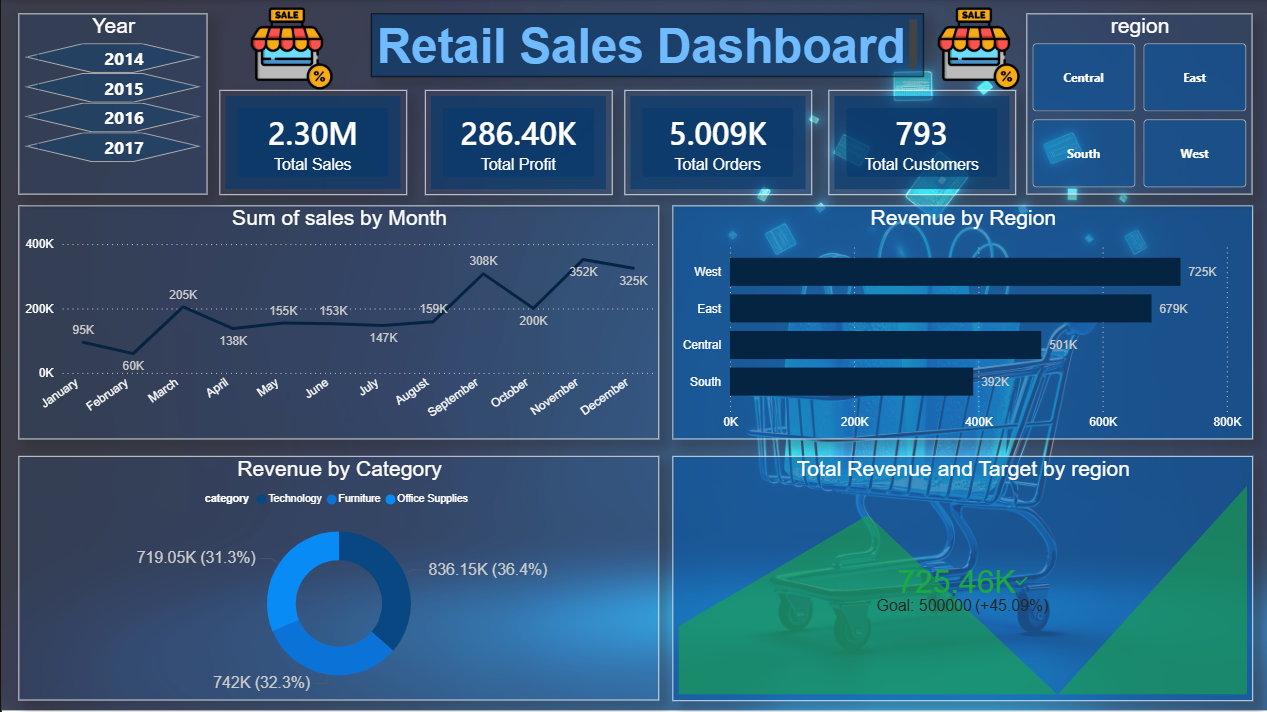

The dashboard page shown, as its layout file describes it:
{"tool":"powerbi","page":{"name":"Page 1","canvas":[1280,720],"ordinal":0},"visuals":[{"type":"textbox","box":[371.9,14.1,557.8,64.1],"z":0},{"type":"cardVisual","fields":{"Data":["Sum(retail_dw fact_sales.sales)"]},"box":[220.3,90.6,189.1,106.2],"z":1},{"type":"cardVisual","fields":{"Data":["Sum(retail_dw fact_sales.profit)"]},"box":[426.6,90.6,189.1,106.2],"z":2},{"type":"cardVisual","fields":{"Data":["Count(retail_dw fact_sales.order_id)"]},"box":[628.1,90.6,189.1,106.2],"z":3},{"type":"cardVisual","fields":{"Data":["Count(retail_dw dim_customer.customer_id)"]},"box":[834.4,90.6,189.1,106.2],"z":4},{"type":"barChart","title":"Revenue by Region","fields":{"Category":["retail_dw dim_region.region"],"Y":["Sum(retail_dw fact_sales.sales)"]},"box":[676.6,207.8,585.9,235.9],"z":5},{"type":"donutChart","title":"Revenue by Category","fields":{"Category":["retail_dw dim_product.category"],"Y":["Sum(retail_dw fact_sales.sales)"]},"box":[17.2,460.9,646.9,246.9],"z":6},{"type":"lineChart","fields":{"Category":["retail_dw dim_date.order_date.Variation.Date Hierarchy.Month"],"Y":["Sum(retail_dw fact_sales.sales)"]},"box":[17.2,207.8,646.9,235.9],"z":7},{"type":"kpi","fields":{"Indicator":["retail_dw dim_customer.Total Revenue"],"Goal":["retail_dw dim_customer.Target"],"TrendLine":["retail_dw fact_sales.region"]},"box":[677,461,586,247],"z":8},{"type":"listSlicer","fields":{"Values":["retail_dw dim_date.order_date.Variation.Date Hierarchy.Year"]},"box":[17.2,14.1,190.6,182.8],"z":9},{"type":"advancedSlicerVisual","fields":{"Values":["retail_dw dim_region.region"]},"box":[1034.4,14.1,228.1,182.8],"z":10},{"type":"image","box":[243.8,7.8,96.9,82.8],"z":11},{"type":"image","box":[937.5,7.8,96.9,82.8],"z":12}]}

Visuals, with their boxes in screenshot pixels (x1, y1, x2, y2), scaled from the page's 1280x720 canvas onto the 1267x712 screenshot:
textbox: 368/14/920/77
cardVisual - Sum(retail_dw fact_sales.sales): 218/90/405/195
cardVisual - Sum(retail_dw fact_sales.profit): 422/90/609/195
cardVisual - Count(retail_dw fact_sales.order_id): 622/90/809/195
cardVisual - Count(retail_dw dim_customer.customer_id): 826/90/1013/195
"Revenue by Region" barChart: 670/205/1250/439
"Revenue by Category" donutChart: 17/456/657/700
lineChart - retail_dw dim_date.order_date.Variation.Date Hierarchy.Month x Sum(retail_dw fact_sales.sales): 17/205/657/439
kpi - retail_dw dim_customer.Total Revenue x retail_dw dim_customer.Target: 670/456/1250/700
listSlicer - retail_dw dim_date.order_date.Variation.Date Hierarchy.Year: 17/14/206/195
advancedSlicerVisual - retail_dw dim_region.region: 1024/14/1250/195
image: 241/8/337/90
image: 928/8/1024/90
